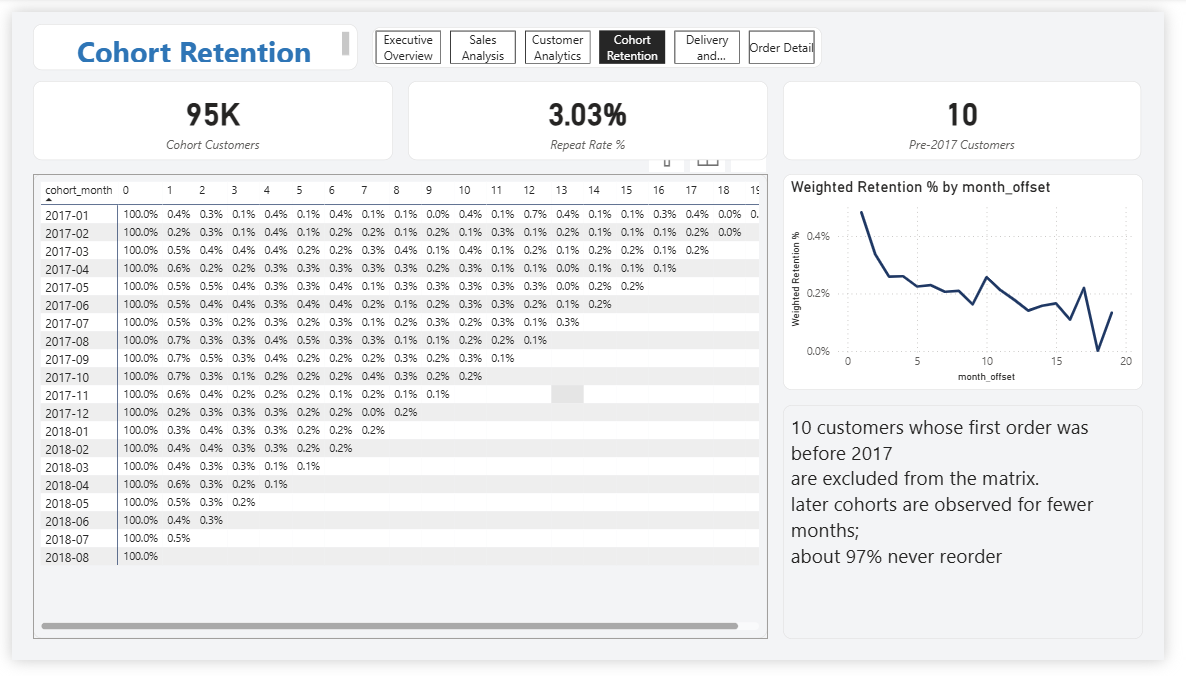

Layout of this report page (visuals, bound fields, positions):
{"tool":"powerbi","page":{"name":"Cohort Retention","canvas":[1280,720],"ordinal":3},"visuals":[{"type":"textbox","box":[23.9,12.7,360.6,51],"z":0},{"type":"pivotTable","fields":{"Columns":["Cohort Retention.month_offset"],"Rows":["Cohort Retention.cohort_month"],"Values":["_Measures.Retention % (cell)"]},"box":[24,180,816,516],"z":1000},{"type":"lineChart","fields":{"Y":["_Measures.Weighted Retention %"],"Category":["Cohort Retention.month_offset"]},"box":[856,180,400,240],"z":2000},{"type":"card","fields":{"Values":["_Measures.Pre-2017 Customers"]},"box":[856,76,398,88],"z":3000},{"type":"card","fields":{"Values":["_Measures.Cohort Customers"]},"box":[24,76,400,88],"z":4000},{"type":"textbox","box":[856.7,436.7,400,260],"z":5000},{"type":"card","fields":{"Values":["_Measures.Repeat Rate %"]},"box":[440,76,400,88],"z":6000},{"type":"pageNavigator","box":[400,16,500,45],"z":7000}]}

Visuals, with their boxes on the page's 1280x720 design canvas (x1, y1, x2, y2). These are canvas units, not pixel positions in the 1186x676 screenshot, which may show the page scaled, cropped or inside an application window:
textbox: locate(24, 13, 384, 64)
pivotTable - Cohort Retention.month_offset x Cohort Retention.cohort_month: locate(24, 180, 840, 696)
lineChart - _Measures.Weighted Retention % x Cohort Retention.month_offset: locate(856, 180, 1256, 420)
card - _Measures.Pre-2017 Customers: locate(856, 76, 1254, 164)
card - _Measures.Cohort Customers: locate(24, 76, 424, 164)
textbox: locate(857, 437, 1257, 697)
card - _Measures.Repeat Rate %: locate(440, 76, 840, 164)
pageNavigator: locate(400, 16, 900, 61)
